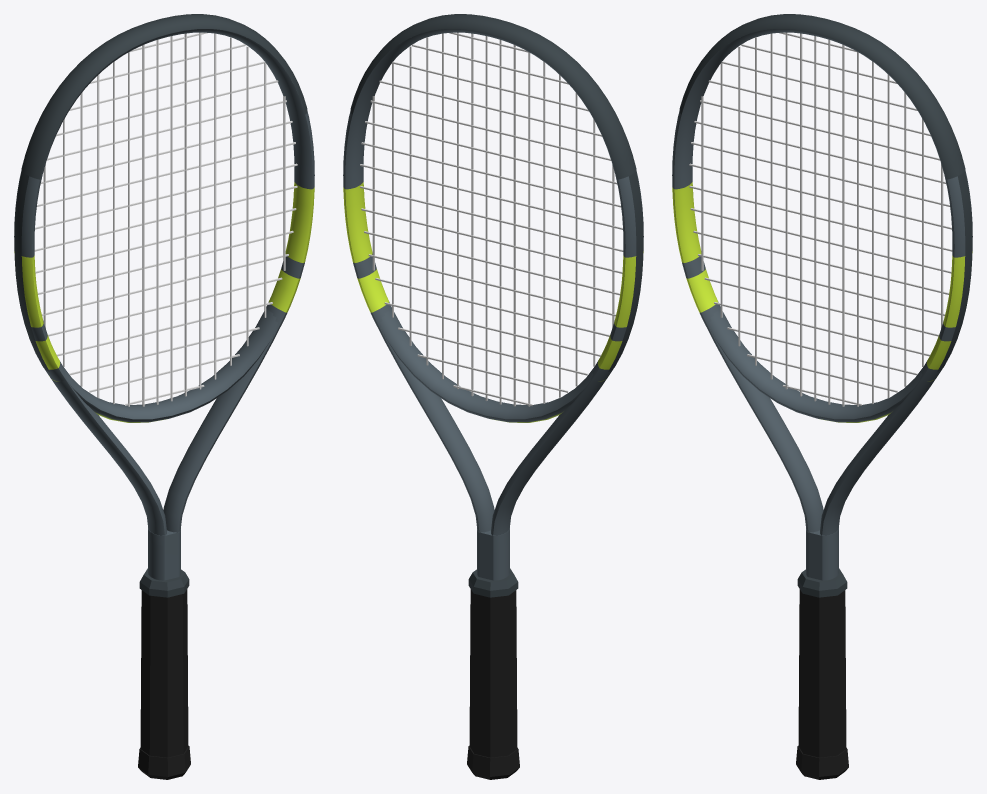
File: babolat-aero-junior-26-2026.glb
The picture shows the model from 3 angles, left to right: view 1: azimuth 30°, elevation 25°; view 2: azimuth 150°, elevation 25°; view 3: azimuth 330°, elevation 25°; orthographic projection.
Parts seen in each view (by area): view 1: frame, strings_mains, strings_crosses, grip, bumper, grommets, butt_cap, collar; view 2: frame, strings_mains, strings_crosses, grip, bumper, grommets, butt_cap, collar; view 3: frame, strings_mains, strings_crosses, grip, bumper, grommets, butt_cap, collar.
Boxes of the visible parts, x1,y1,x2,y2 form: frame: (14,29,314,580); strings_mains: (43,32,285,406); strings_crosses: (34,32,297,405); grip: (140,589,188,757); bumper: (21,14,307,179); grommets: (14,171,49,371); butt_cap: (138,745,190,779); collar: (139,568,189,597); frame: (343,29,643,580); strings_mains: (372,32,614,406); strings_crosses: (360,32,623,406); grip: (469,589,517,757); bumper: (350,14,636,179); grommets: (608,171,643,371); butt_cap: (467,745,519,779); collar: (468,568,518,597); frame: (672,29,972,580); strings_mains: (701,32,943,406); strings_crosses: (689,32,952,405); grip: (798,589,846,757); bumper: (679,14,965,179); grommets: (937,171,972,371); butt_cap: (796,745,848,779); collar: (797,568,847,597).
Size of the model in its own units: 0.2718 by 0.6607 by 0.0396.
